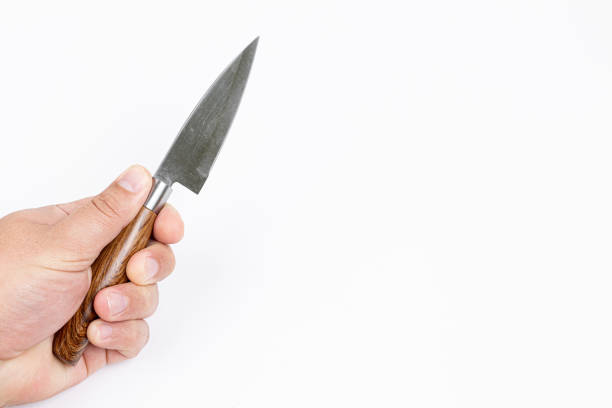knife: (50, 32, 262, 369)
